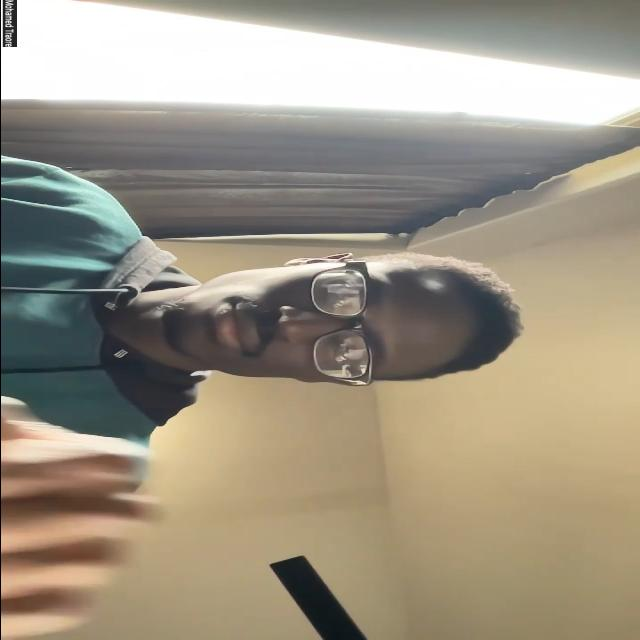Rock: (0, 393, 160, 640)
